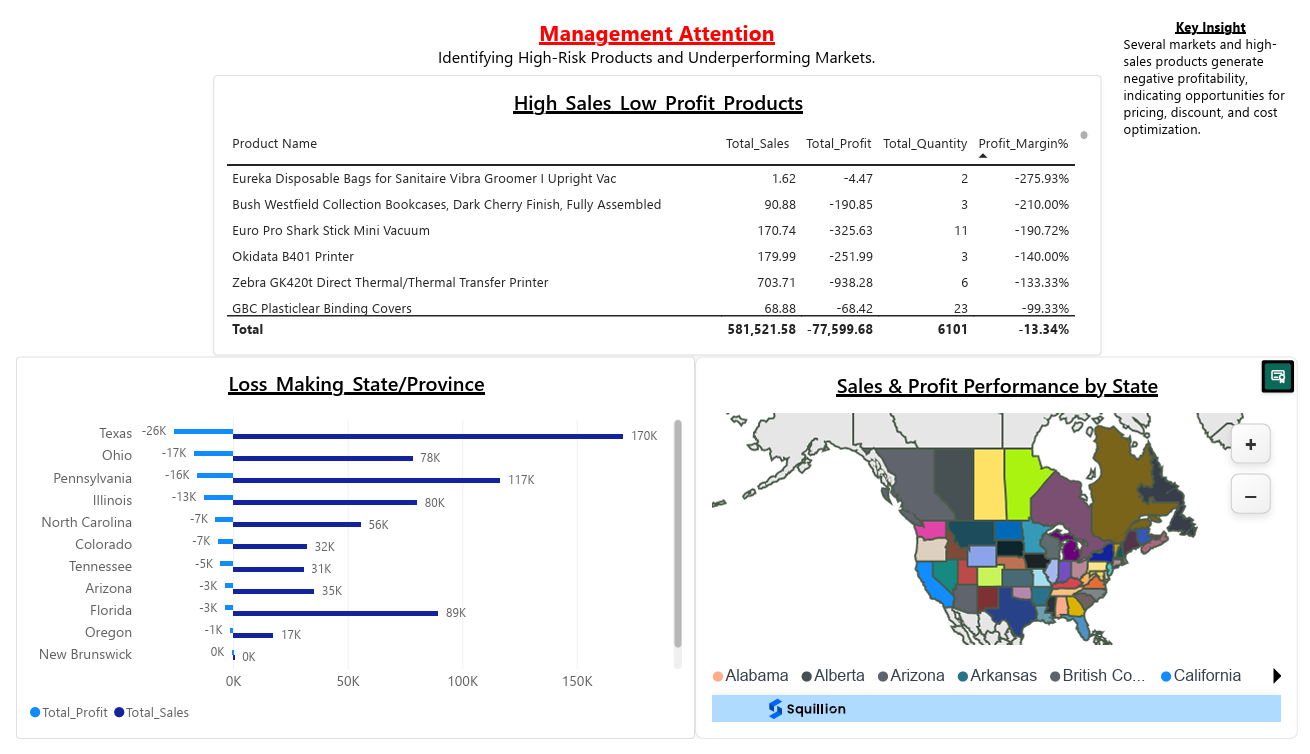

Layout of this report page (visuals, bound fields, positions):
{"tool":"powerbi","page":{"name":"Management Attention","canvas":[1280,720],"ordinal":2},"visuals":[{"type":"tableEx","title":"High_Sales_Low_Profit_Products","fields":{"Values":["Orders_Clean_UTF8.Product Name","Orders_Clean_UTF8.Total_Sales","Orders_Clean_UTF8.Total_Profit","Orders_Clean_UTF8.Total_Quantity","Orders_Clean_UTF8.Profit_Margin%"]},"box":[197.2,56.7,887.1,280],"z":0},{"type":"MapBySquillion","title":"Sales & Profit Performance by State","fields":{"category":["Orders_Clean_UTF8.State/Province"],"value":["Orders_Clean_UTF8.Total_Profit"]},"box":[678,337.6,602.3,382.2],"z":1000},{"type":"clusteredBarChart","title":"Loss_Making_State/Province","fields":{"Category":["Orders_Clean_UTF8.State/Province"],"Y":["Orders_Clean_UTF8.Total_Profit","Orders_Clean_UTF8.Total_Sales"]},"box":[0,337.6,678,382.2],"z":2000},{"type":"textbox","box":[0,0,1280,58.6],"z":2005},{"type":"textbox","box":[1106.1,0,174.2,128.3],"z":2006}]}

Visuals, with their boxes in screenshot pixels (x1, y1, x2, y2), scaled from the page's 1280x720 canvas onto the 1310x754 screenshot:
"High_Sales_Low_Profit_Products" tableEx: pyautogui.locateOnScreen(202, 59, 1110, 353)
"Sales & Profit Performance by State" MapBySquillion: pyautogui.locateOnScreen(694, 354, 1309, 753)
"Loss_Making_State/Province" clusteredBarChart: pyautogui.locateOnScreen(0, 354, 694, 753)
textbox: pyautogui.locateOnScreen(0, 0, 1309, 61)
textbox: pyautogui.locateOnScreen(1132, 0, 1309, 134)
